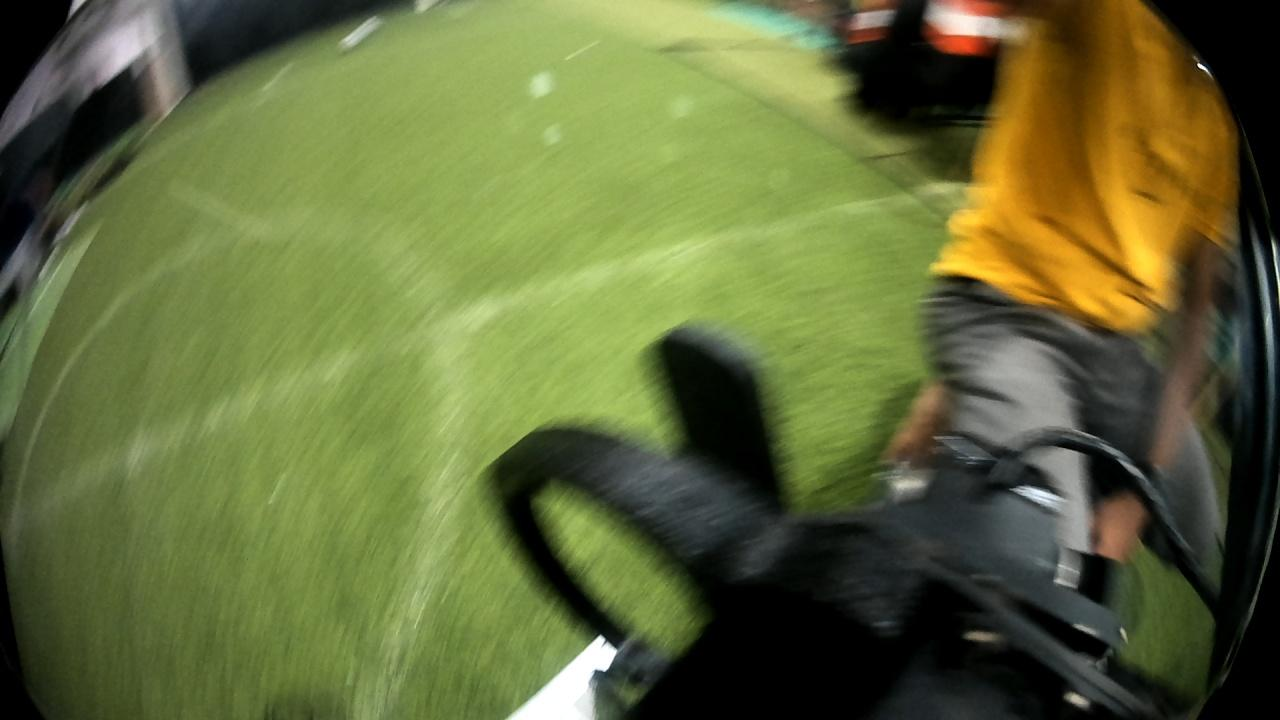ball: (334, 11, 383, 60)
